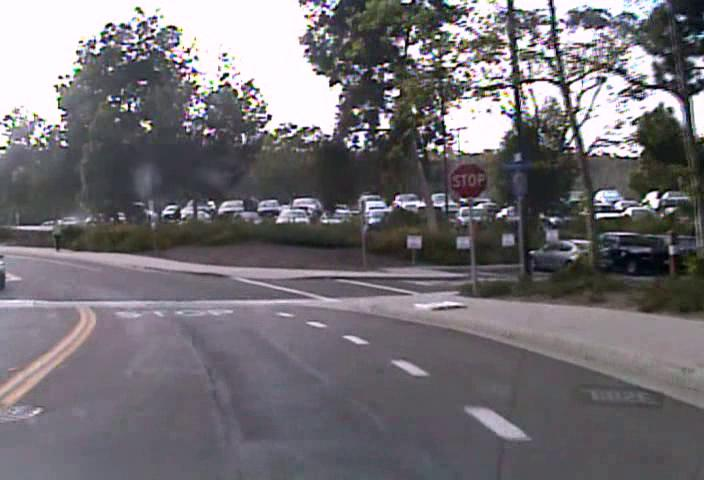stop: (449, 161, 488, 199)
